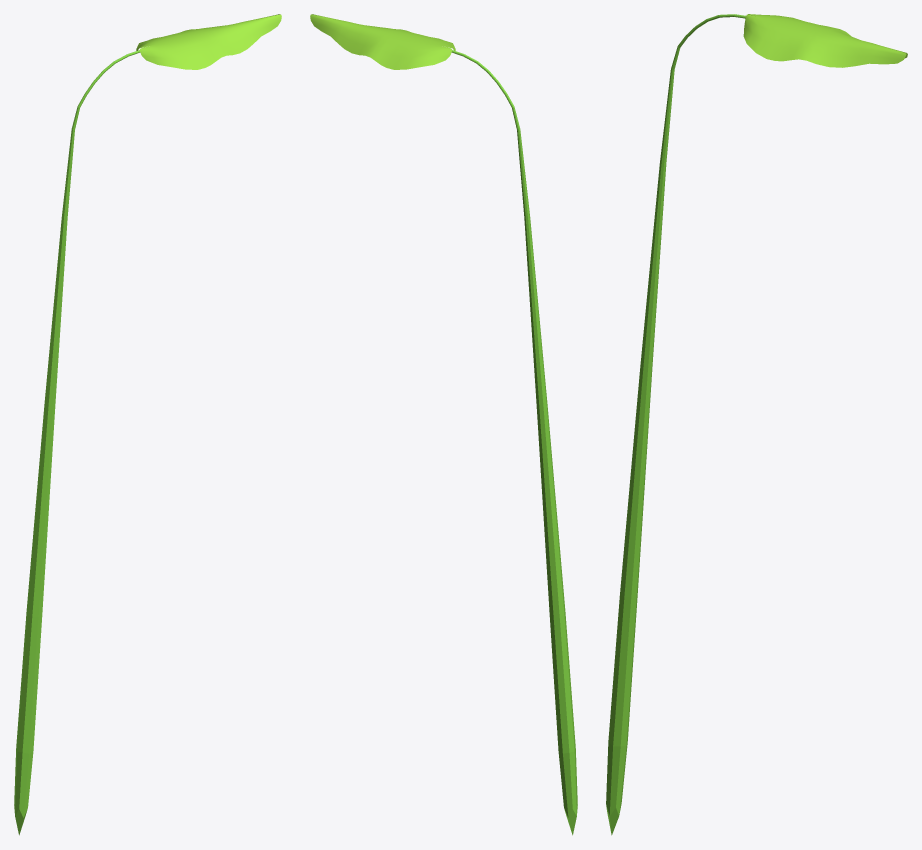
File: leave.fbx
The picture shows the model from 3 angles, left to right: view 1: azimuth 30°, elevation 25°; view 2: azimuth 150°, elevation 25°; view 3: azimuth 330°, elevation 25°; orthographic projection. The views are drawn at different scales.
Visible parts, largest first — view 1: Cube, Plane; view 2: Cube, Plane; view 3: Cube, Plane.
Boxes of the visible parts, x1,y1,x2,y2 form: Cube: [14, 50, 140, 835]; Plane: [136, 14, 281, 69]; Cube: [451, 50, 577, 835]; Plane: [310, 14, 455, 69]; Cube: [606, 14, 745, 835]; Plane: [743, 14, 907, 67].
Bounding box in the file's own units: 8367 × 22796 × 2262.
